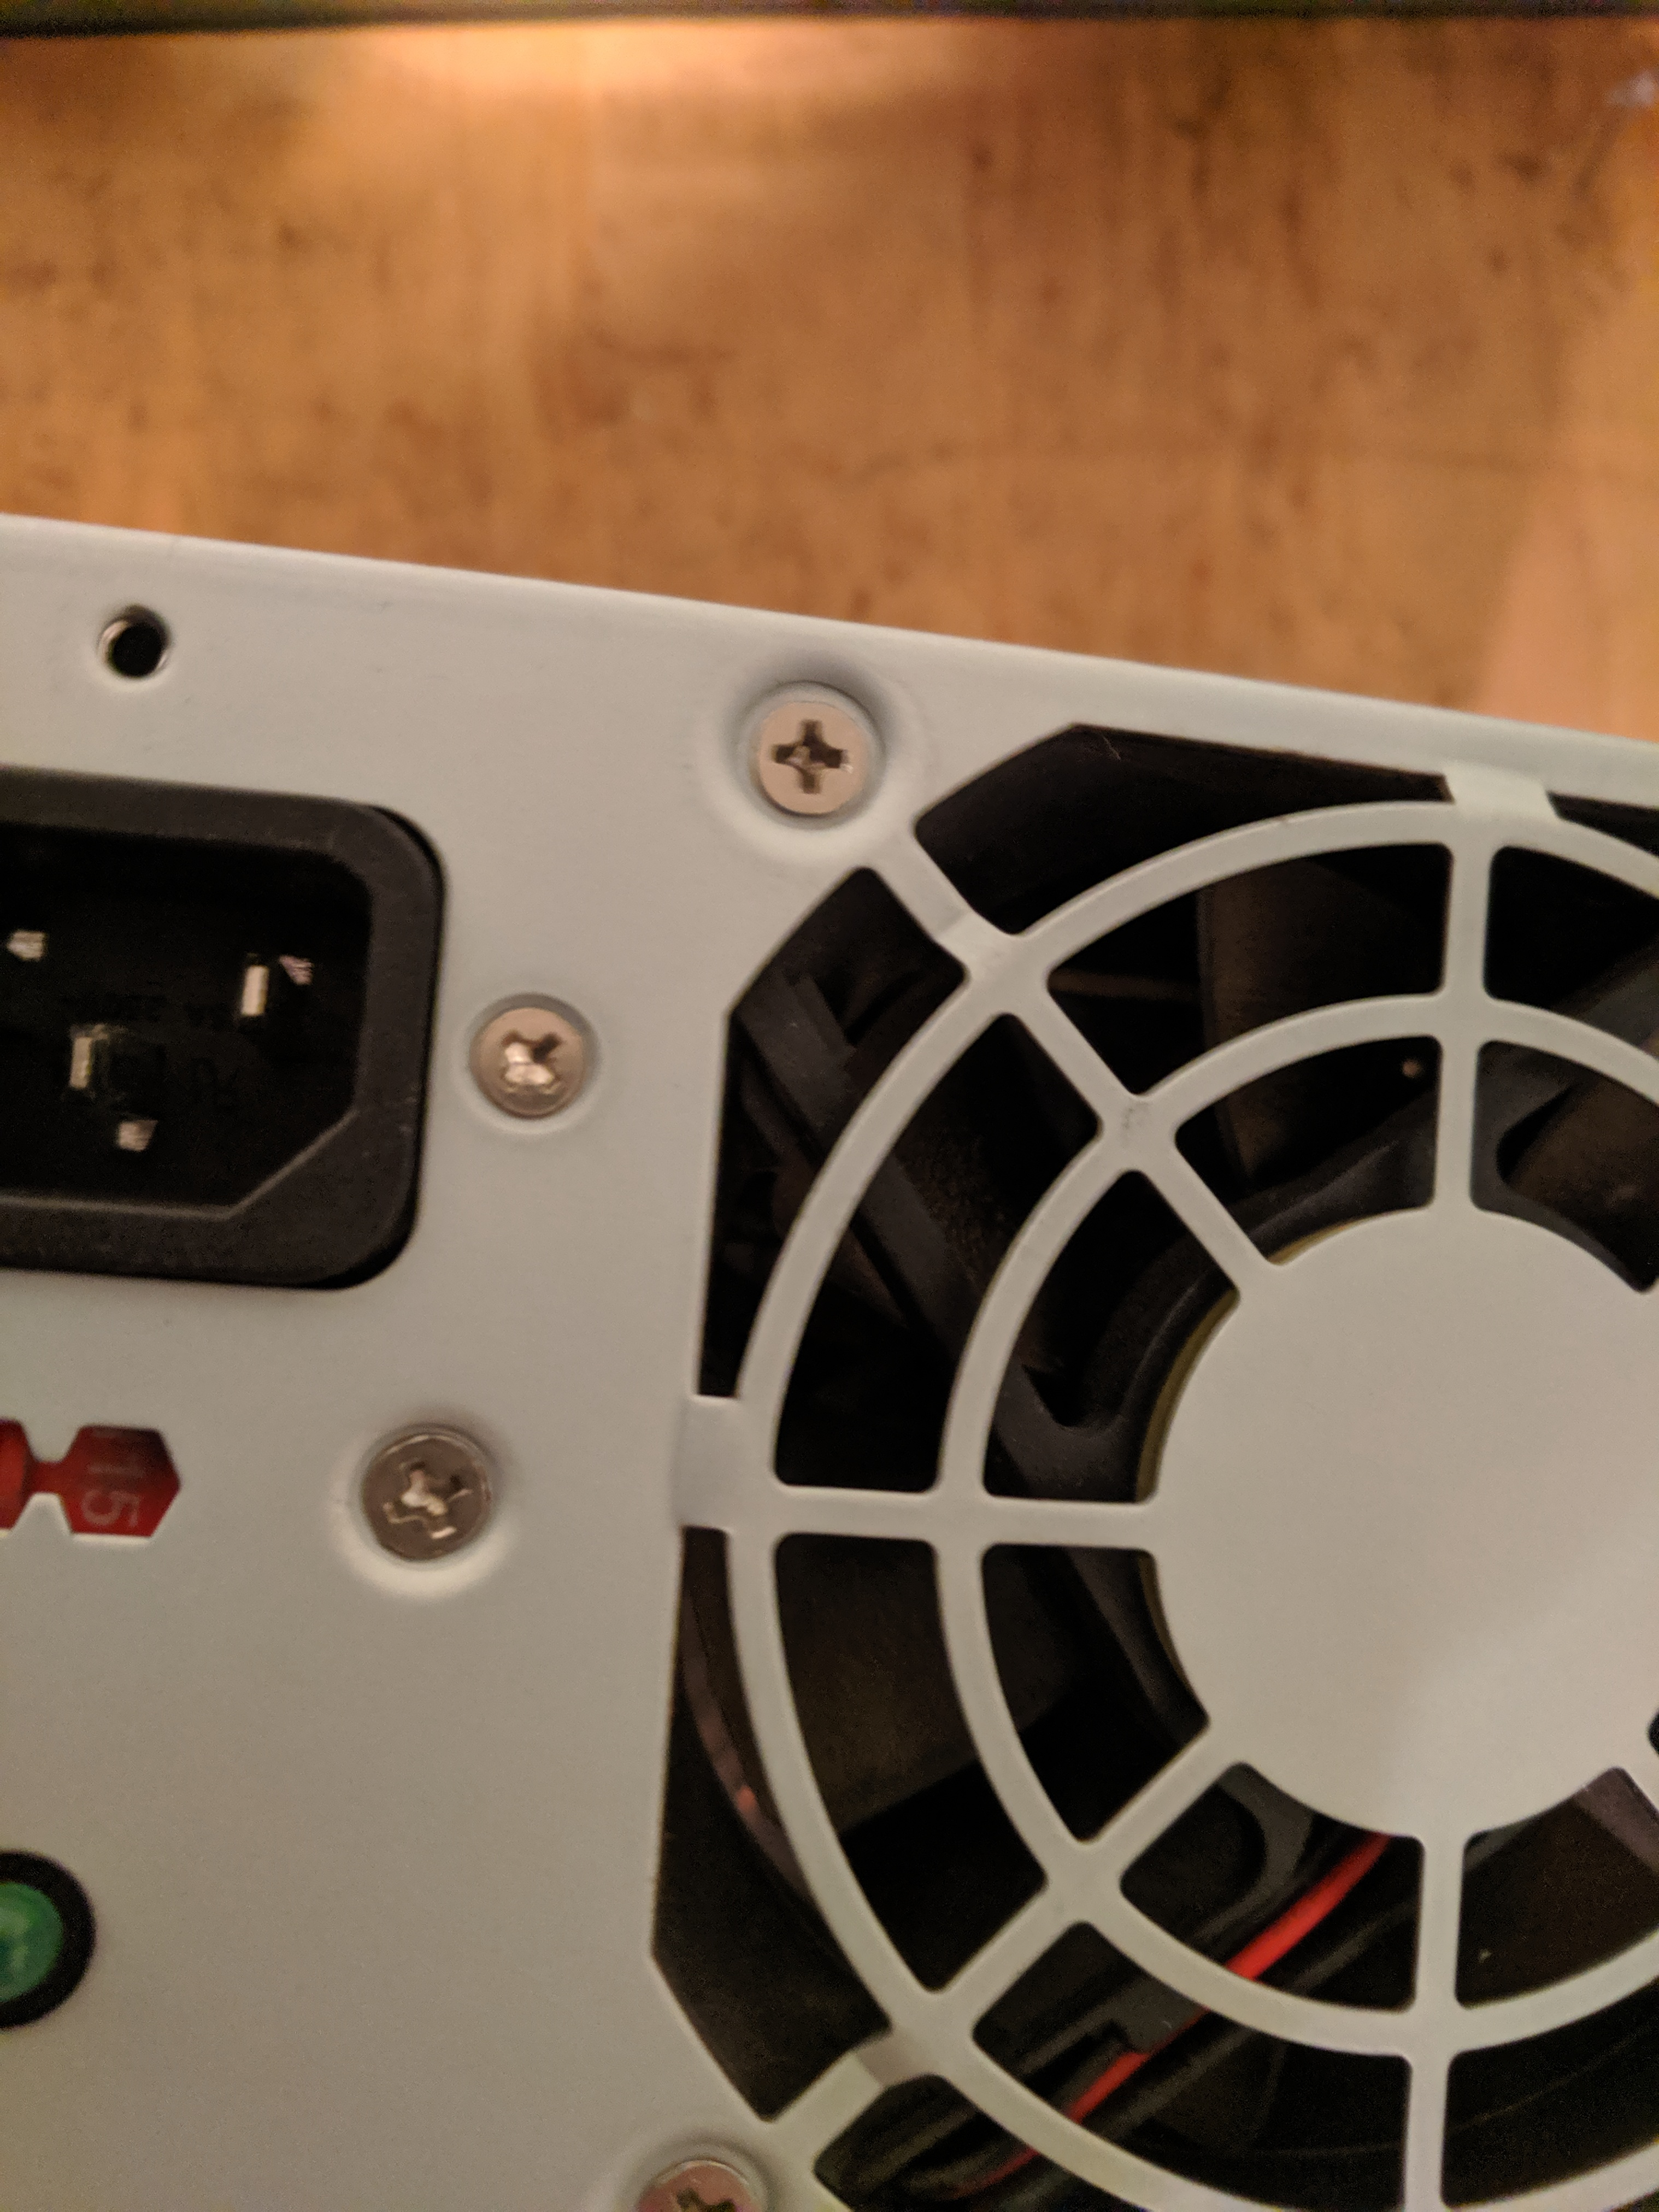cross_recessed_screw: (352, 1418, 498, 1561), (739, 685, 880, 815), (465, 991, 596, 1115)
